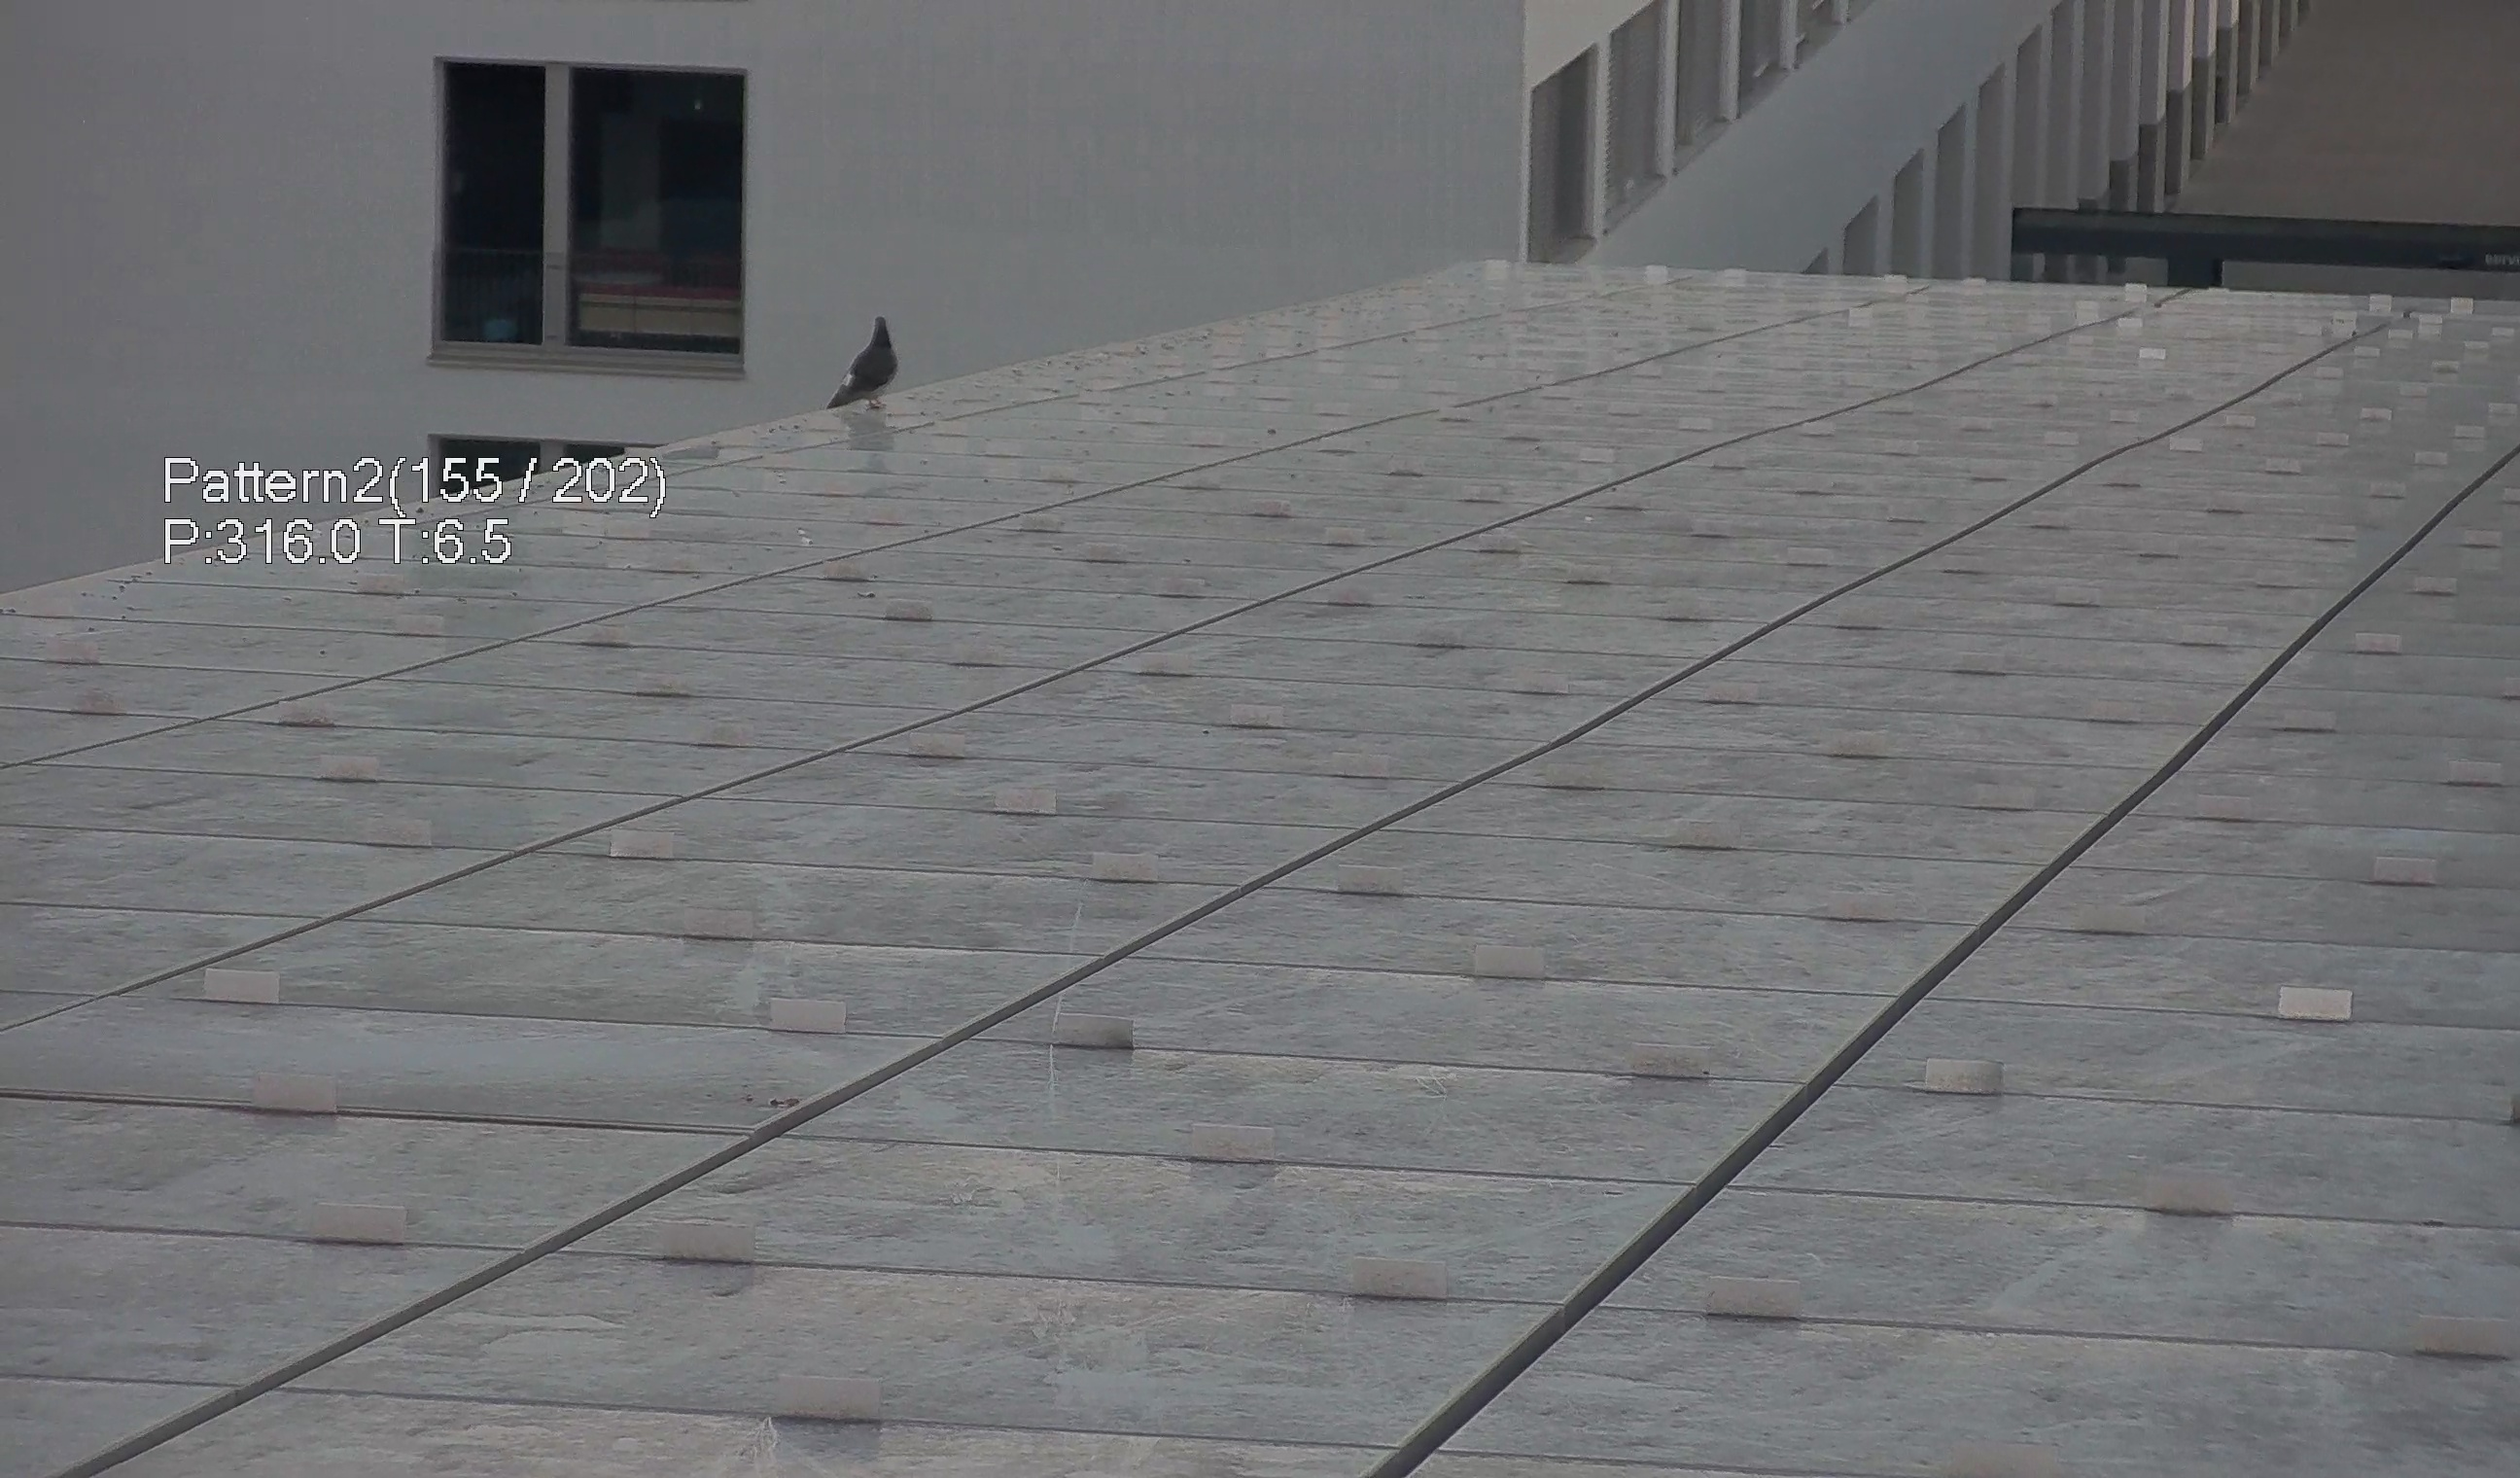Pigeon: (825, 301, 909, 417)
